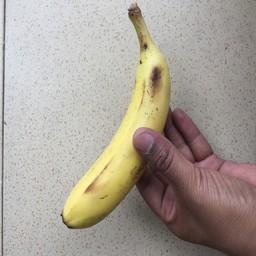Banana Ripe: (46, 1, 185, 256)
